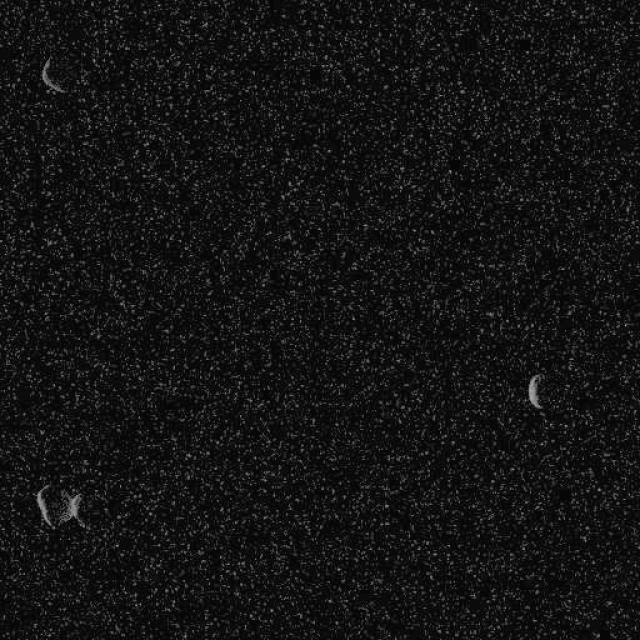D2: (34, 481, 88, 531), (40, 55, 66, 94), (526, 371, 545, 410)
